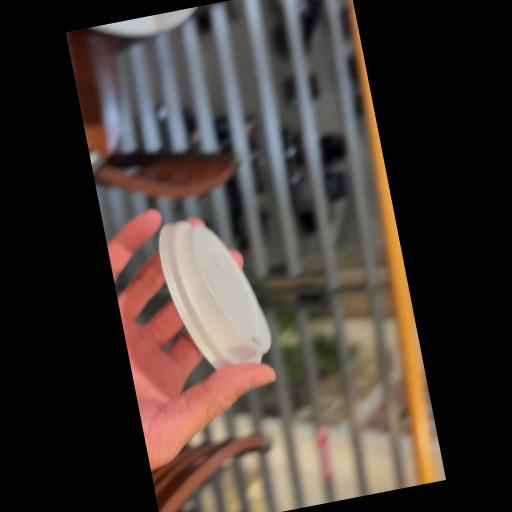lp_cup_lids: (152, 206, 278, 380)
